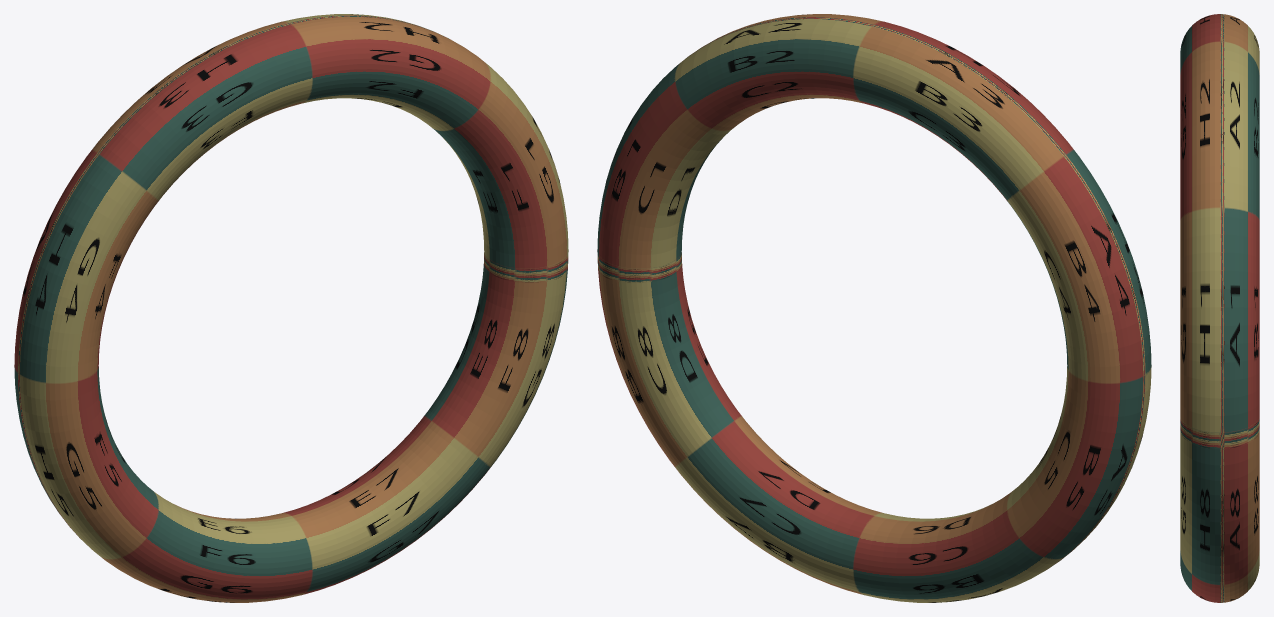
File: texture_torus_R9_r3.glb
3 renders of one model, left to right at view 1: azimuth 30°, elevation 25°; view 2: azimuth 150°, elevation 25°; view 3: azimuth 270°, elevation 25°, orthographic. The views are drawn at different scales.
Visible parts, largest first — view 1: world; view 2: world; view 3: world.
Boxes of the visible parts, x1,y1,x2,y2 form: world: (14, 14, 568, 602); world: (597, 14, 1151, 602); world: (1180, 14, 1259, 602).
Bounding box in the file's own units: 34.67 × 34.67 × 4.66.
1 material, 1 textured.
